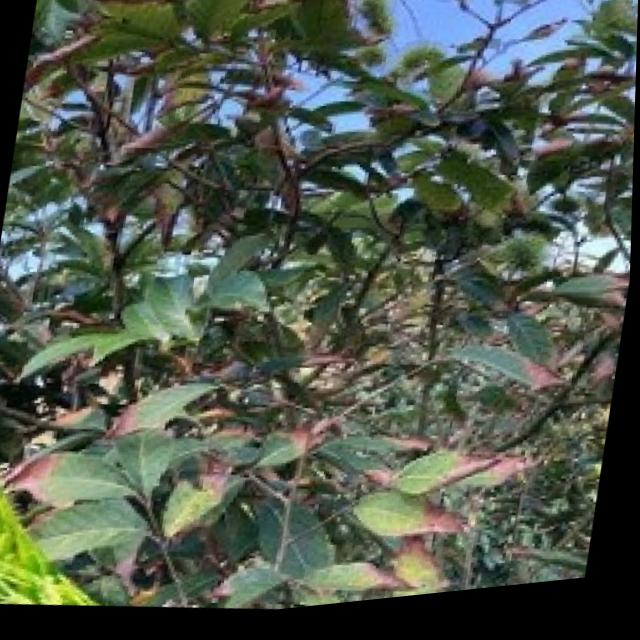Leaf Blight: (12, 0, 365, 265), (0, 335, 223, 537), (345, 434, 572, 611)
